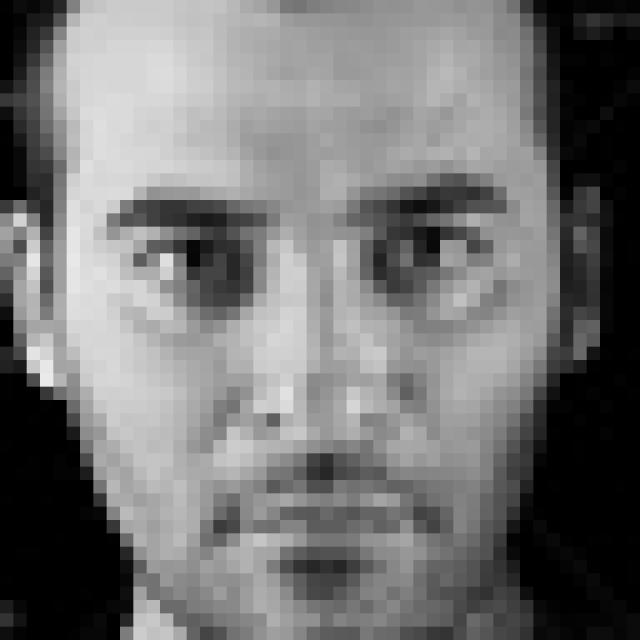neutral: (94, 169, 524, 585)
